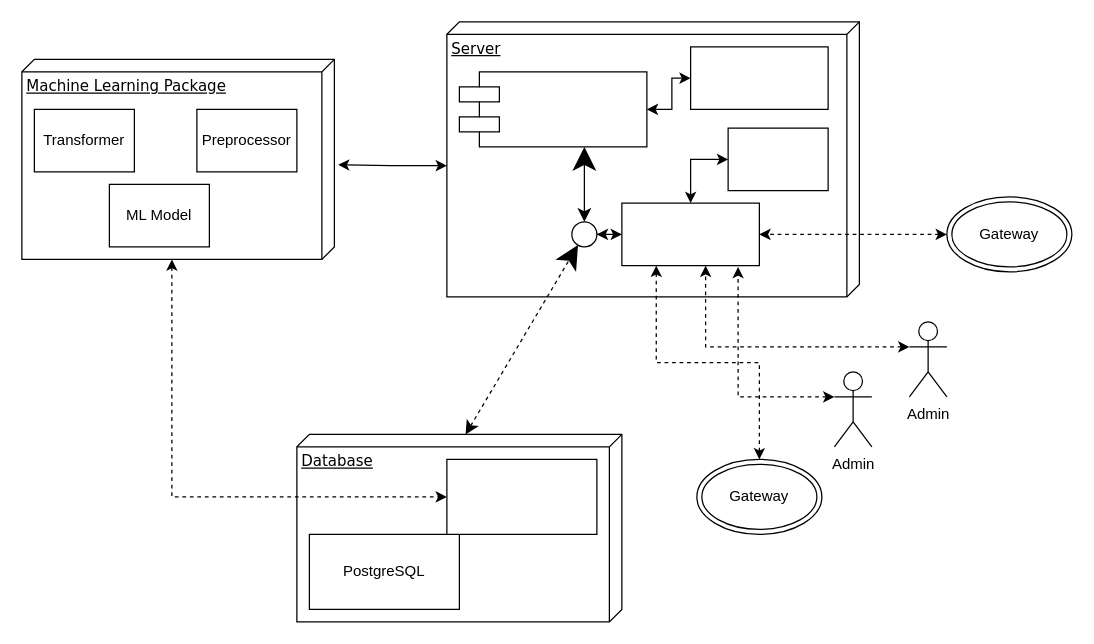
This 1094x644 diagram has some shape labels left out. Here are the shapes that lost their labels. From the top down, the centre of each, then its label:
pixel 758 77: Model
pixel 552 109: Authentication and Verification
pixel 777 159: View
pixel 690 234: Controller
pixel 521 496: InfluxDB
